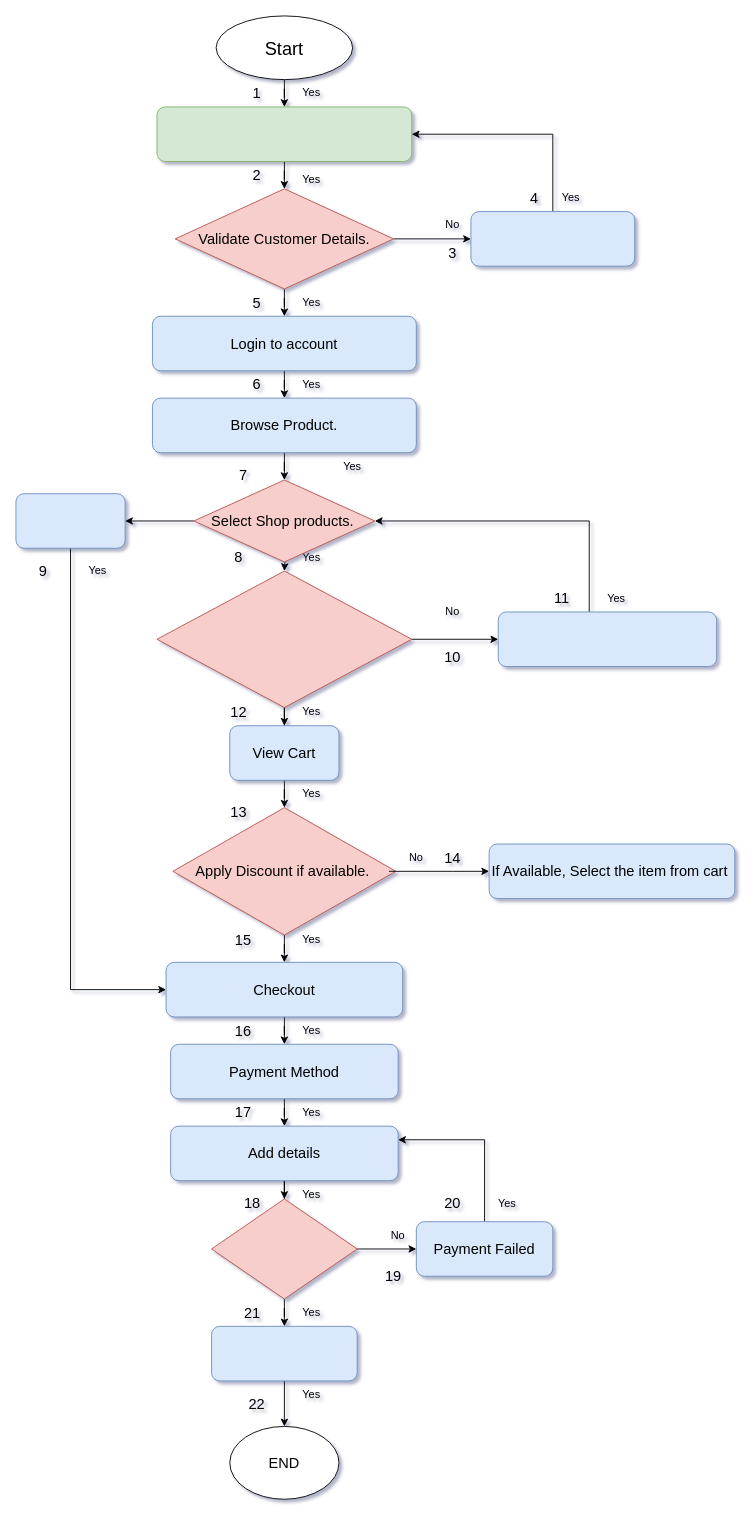
Some shapes in this 756 by 1521 pixel diagram are drawn without their labels. The box of each missing label's shape, as (x1, y1, x2, y2) in pixels:
Add the product to cart: (156, 570, 412, 708)
Buy Now: (15, 493, 125, 548)
Input Customer Detail.: (156, 106, 412, 162)
Order Confirmed: (211, 1325, 357, 1381)
Product Not Available ,Shop Again.: (497, 611, 717, 667)
Signup as new member: (470, 211, 635, 266)
Validate details: (211, 1198, 357, 1299)
